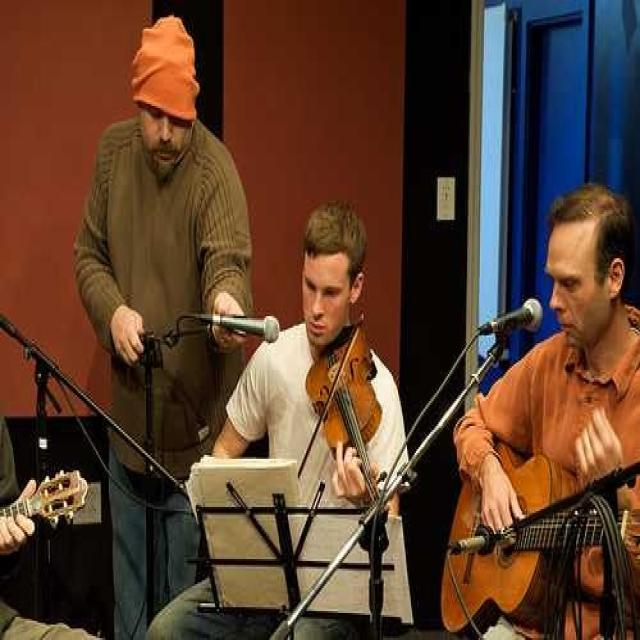microphone: (4, 303, 75, 391), (183, 308, 279, 344), (486, 297, 542, 338)
